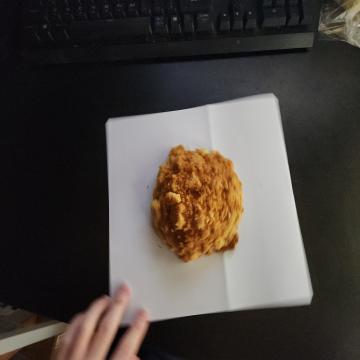soboru_bread: (151, 140, 245, 268)
